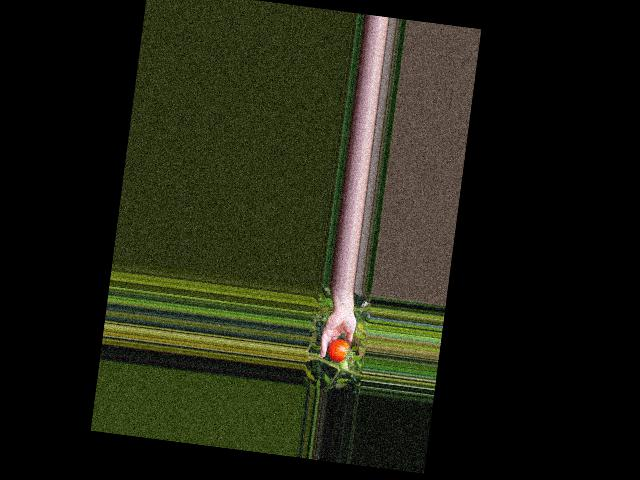tomato: (327, 337, 350, 363)
